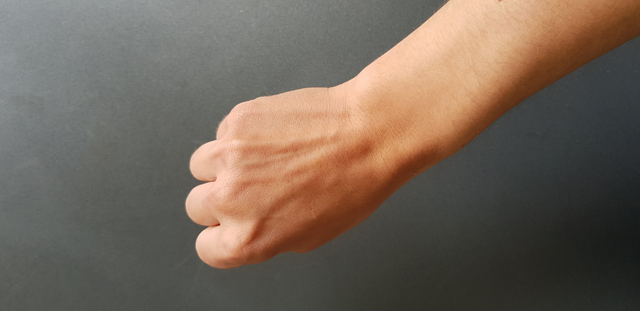Rock: (151, 75, 417, 278)
